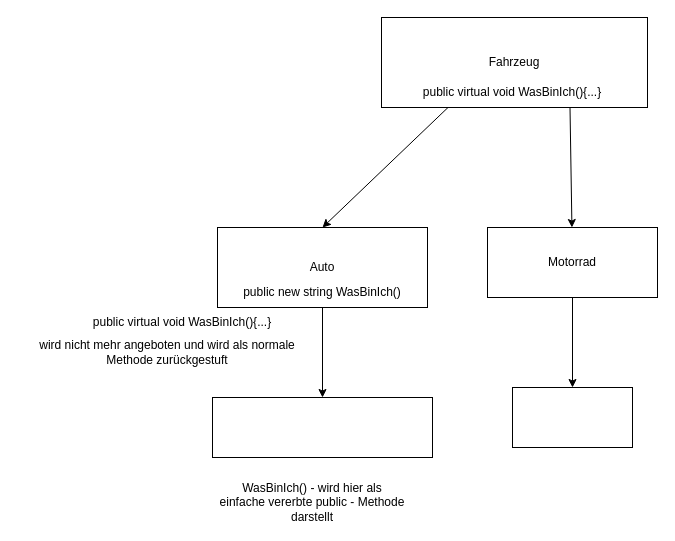
This 675x541 diagram has some shape labels left out. The centre of each missing label's shape, as x and y in pixels:
EletroCar: [322,427]
Zweistizer: [572,417]
